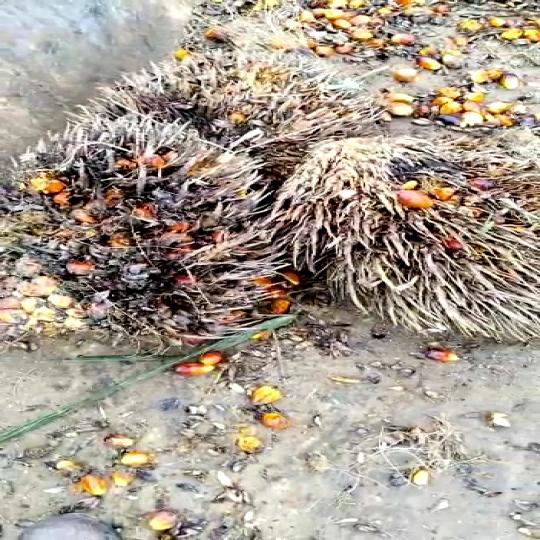terlalu masak: (0, 134, 290, 344), (265, 143, 540, 304), (79, 49, 360, 147)
